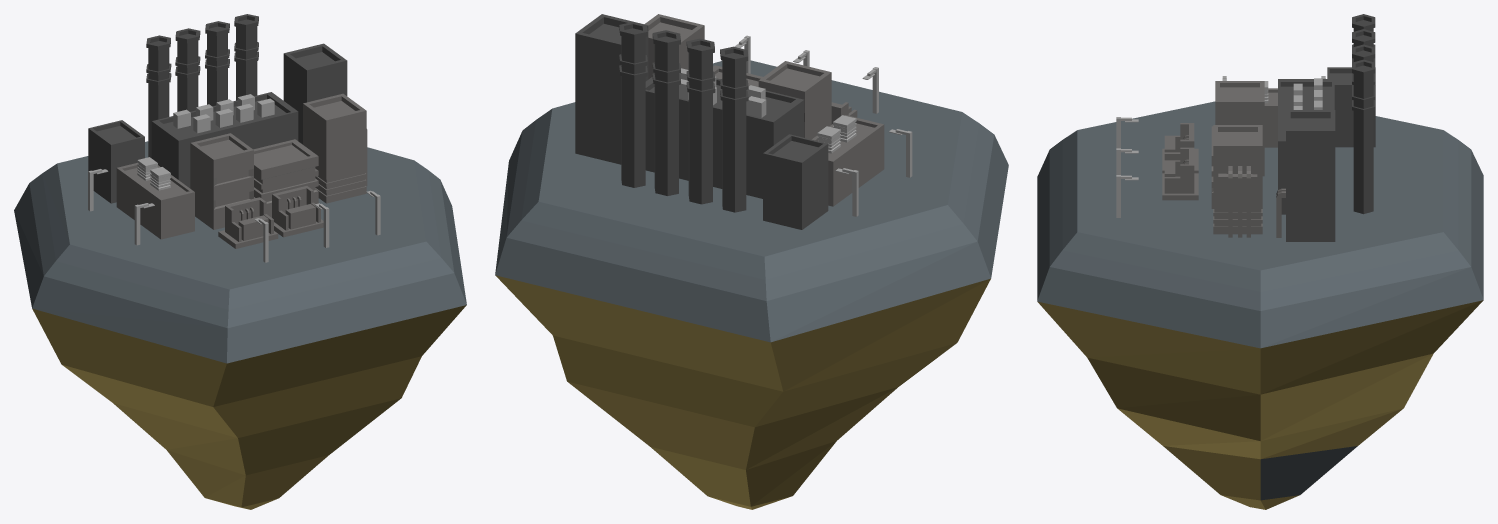
The model's file is sample_factory.fbx.
The picture shows the model from 3 angles, left to right: view 1: azimuth 30°, elevation 25°; view 2: azimuth 150°, elevation 25°; view 3: azimuth 270°, elevation 25°; orthographic projection. The views are drawn at different scales.
Visible parts, largest first — view 1: polySurface18; view 2: polySurface18; view 3: polySurface18.
Boxes of the visible parts, x1,y1,x2,y2 form: polySurface18: [14, 14, 466, 509]; polySurface18: [495, 14, 1008, 509]; polySurface18: [1037, 14, 1483, 509].
Bounding box in the file's own units: 11.53 × 11.52 × 9.99.
